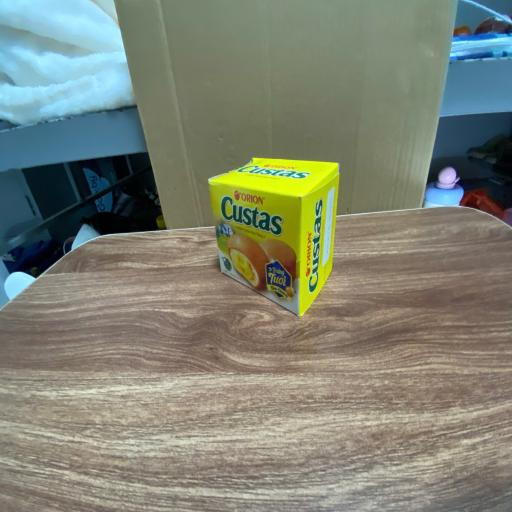custas: (208, 158, 340, 316)
